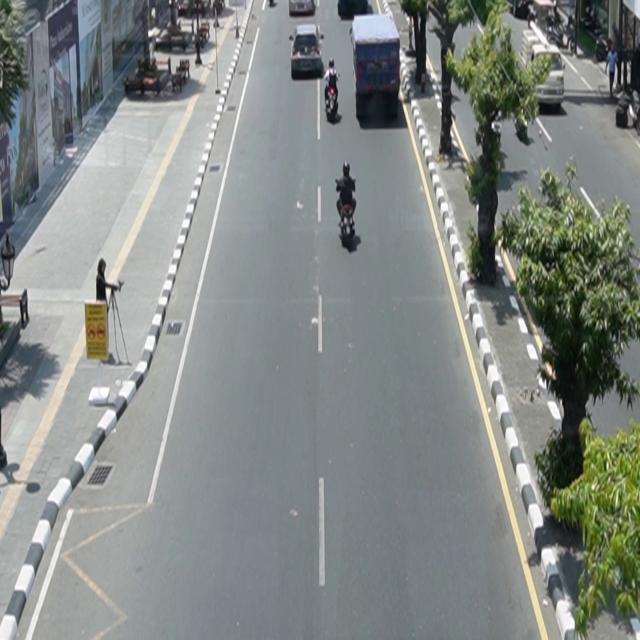bus: (352, 13, 402, 121)
car: (290, 24, 325, 80)
